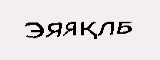Б: (115, 20, 133, 36)
Л: (96, 19, 115, 38)
Э: (23, 20, 44, 39)
Я: (61, 20, 79, 38), (45, 22, 62, 40)
Қ: (79, 19, 97, 40)
